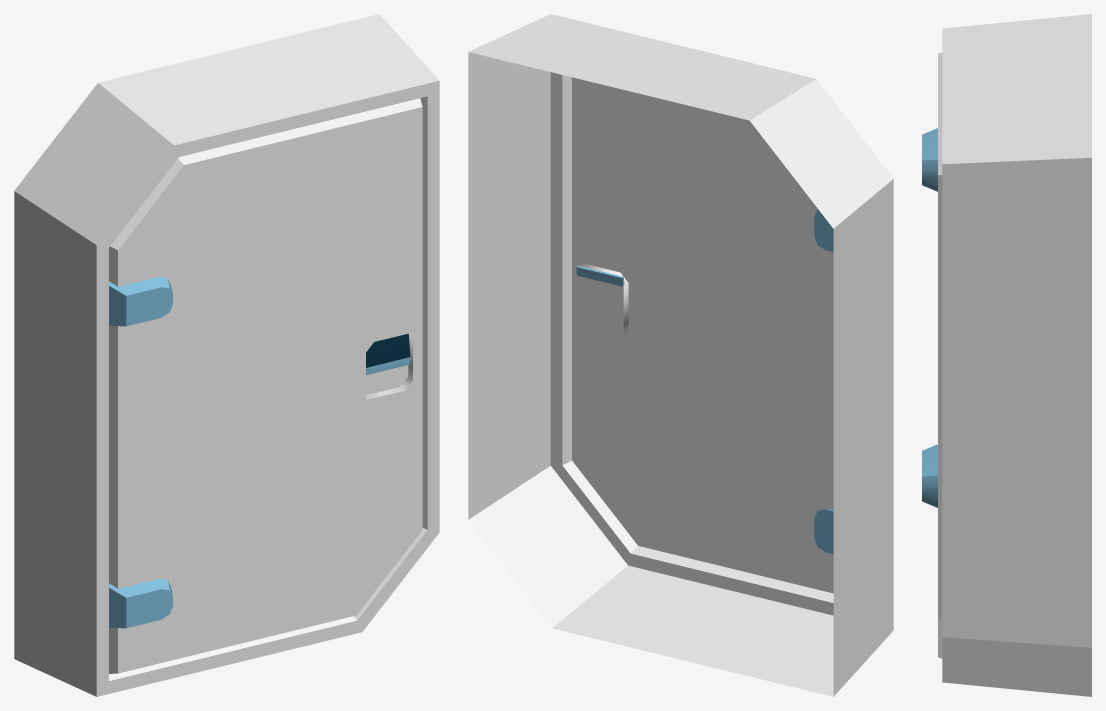
The model's file is Cabinet.004.fbx.
3 views of the same model, side by side, from view 1: azimuth 30°, elevation 25°; view 2: azimuth 150°, elevation 25°; view 3: azimuth 270°, elevation 25° (orthographic). The views are drawn at different scales.
Parts seen in each view (by area): view 1: Cabinet.004; view 2: Cabinet.004; view 3: Cabinet.004.
Part boxes in pixels (x1=…): Cabinet.004: x1=14, y1=14, x2=439, y2=696; Cabinet.004: x1=468, y1=14, x2=893, y2=696; Cabinet.004: x1=922, y1=14, x2=1091, y2=696.
Size of the model in its own units: 0.3439 by 0.5001 by 0.1321.
